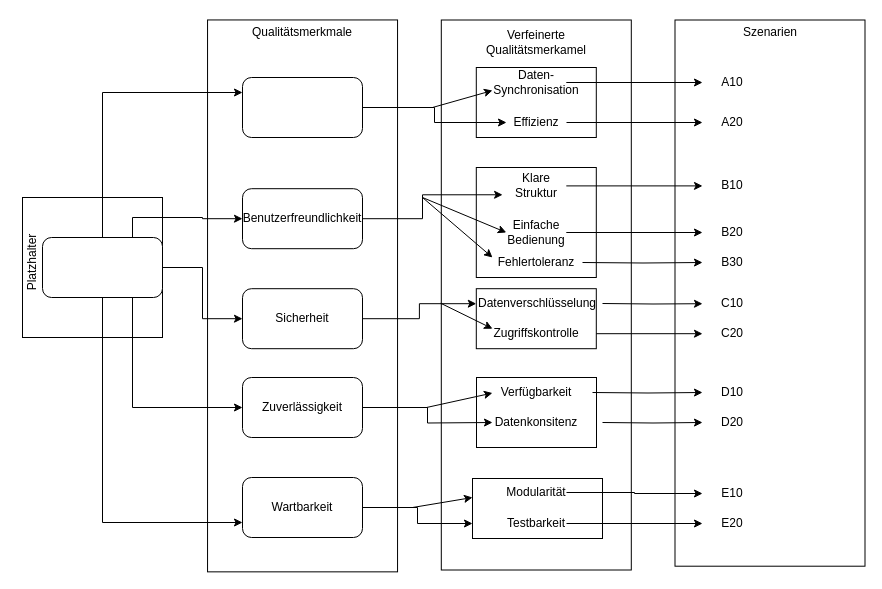
The diagram is 882 pixels wide and 589 high, and some of its shapes have lost their labels. The centre of each missing label's shape, as x and y in pixels:
Performance: [302,107]
Qualität: [102,267]
